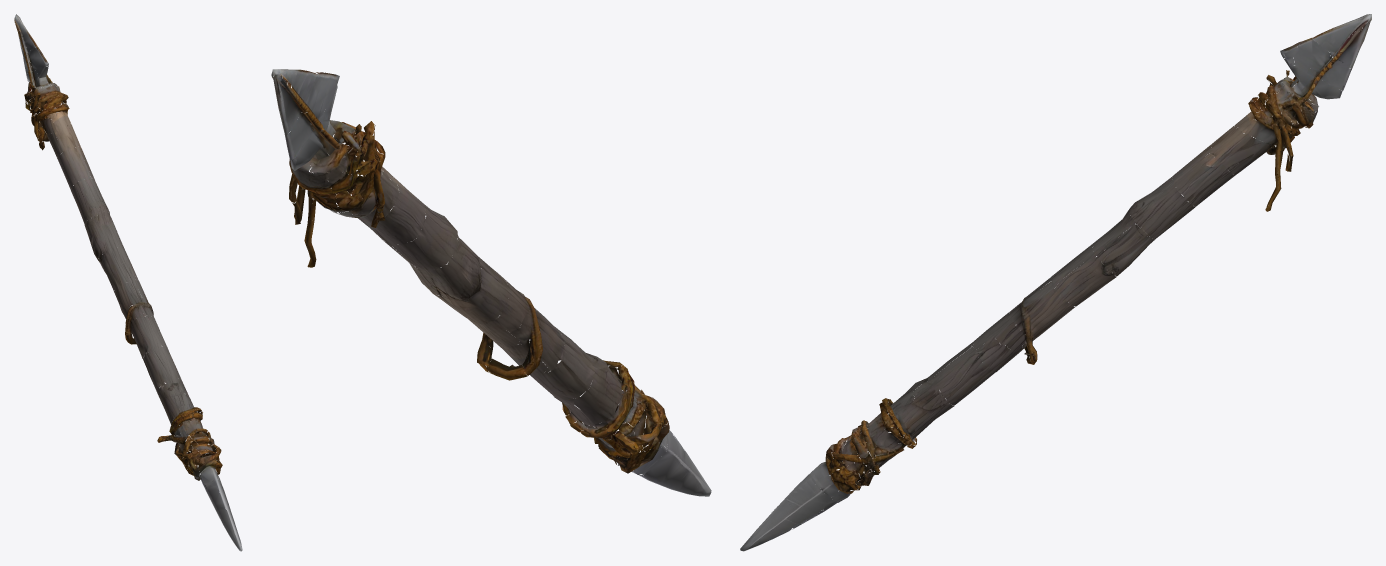
Rendered from crude_spear.glb.
3 renders of one model, left to right at view 1: azimuth 30°, elevation 25°; view 2: azimuth 150°, elevation 25°; view 3: azimuth 270°, elevation 25°, orthographic. The views are drawn at different scales.
Parts seen in each view (by area): view 1: tripo_node_dcadddbd-7f73-41a2-8518-a5a1e0c3289c; view 2: tripo_node_dcadddbd-7f73-41a2-8518-a5a1e0c3289c; view 3: tripo_node_dcadddbd-7f73-41a2-8518-a5a1e0c3289c.
Part boxes in pixels (x1,y1,x2,y2): tripo_node_dcadddbd-7f73-41a2-8518-a5a1e0c3289c: [14, 14, 242, 551]; tripo_node_dcadddbd-7f73-41a2-8518-a5a1e0c3289c: [271, 69, 711, 496]; tripo_node_dcadddbd-7f73-41a2-8518-a5a1e0c3289c: [740, 14, 1371, 551].
Bounding box in the file's own units: 0.1106 × 0.9347 × 0.9998.
Materials: 1 (1 with a texture image).
